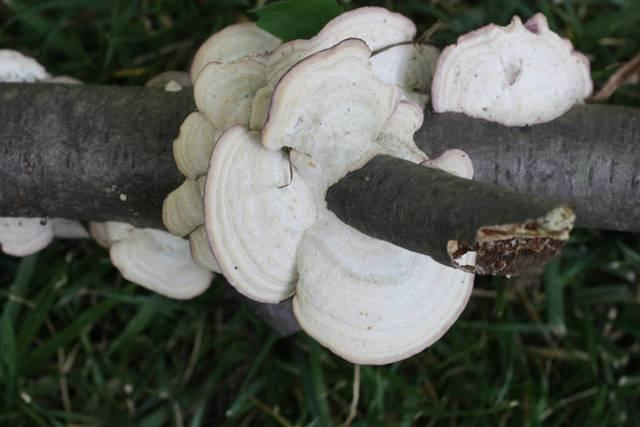Non-edible Mushroom: (0, 11, 593, 328)
